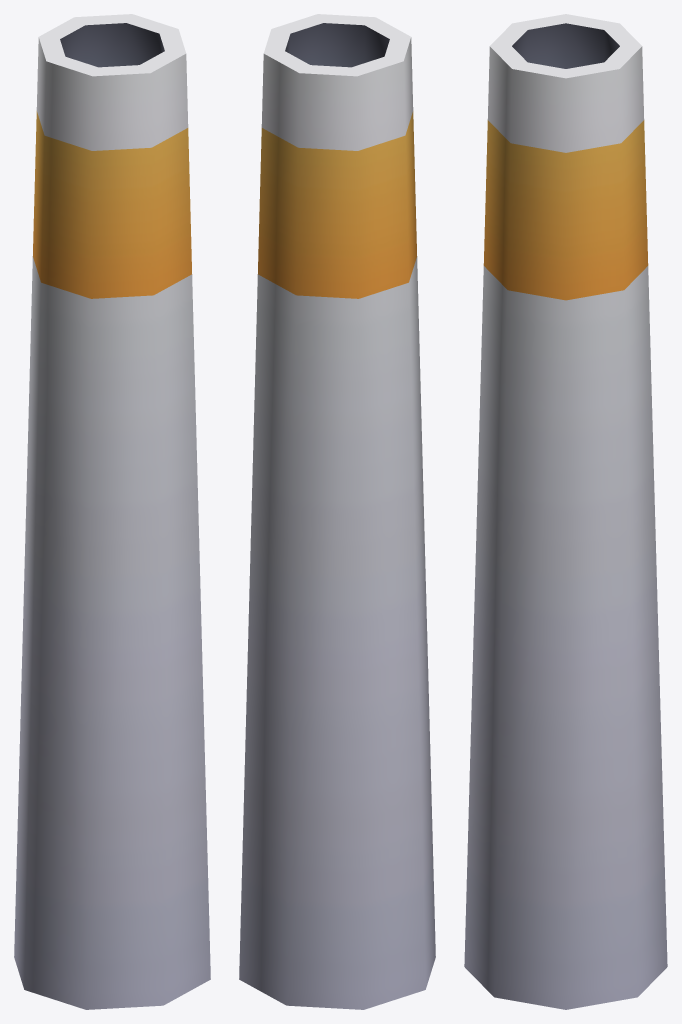
The model's file is kenney-city-industrial-chimney-basic.glb.
3 views of the same model, side by side, from view 1: azimuth 30°, elevation 25°; view 2: azimuth 150°, elevation 25°; view 3: azimuth 270°, elevation 25° (orthographic).
Visible parts, largest first — view 1: chimney-basic; view 2: chimney-basic; view 3: chimney-basic.
Boxes of the visible parts, x1,y1,x2,y2 form: chimney-basic: (14,14,210,1009); chimney-basic: (239,14,435,1009); chimney-basic: (464,14,667,1009).
Size of the model in its own units: 0.2 by 1 by 0.2.
1 material, 1 textured.
